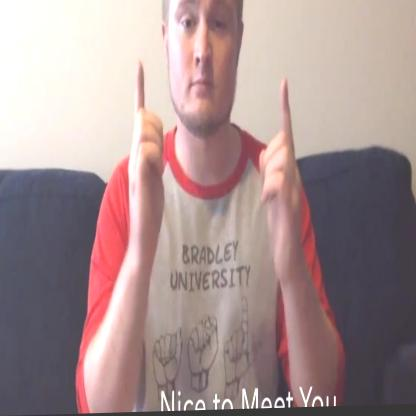NiceToMeetYou: (120, 55, 309, 292)
